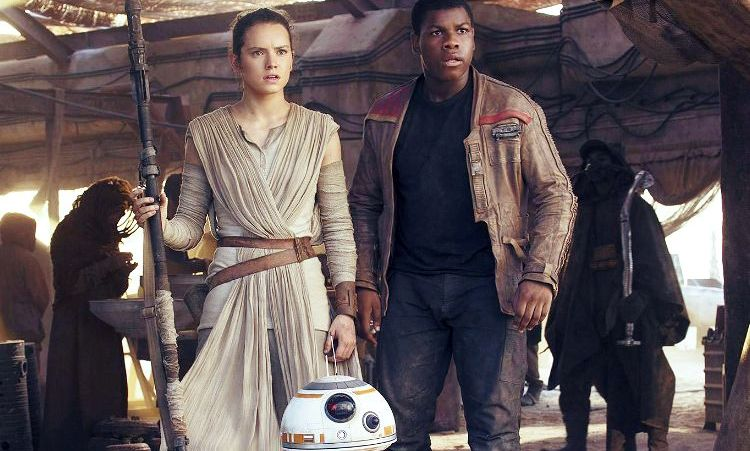bb8: (279, 375, 398, 451)
